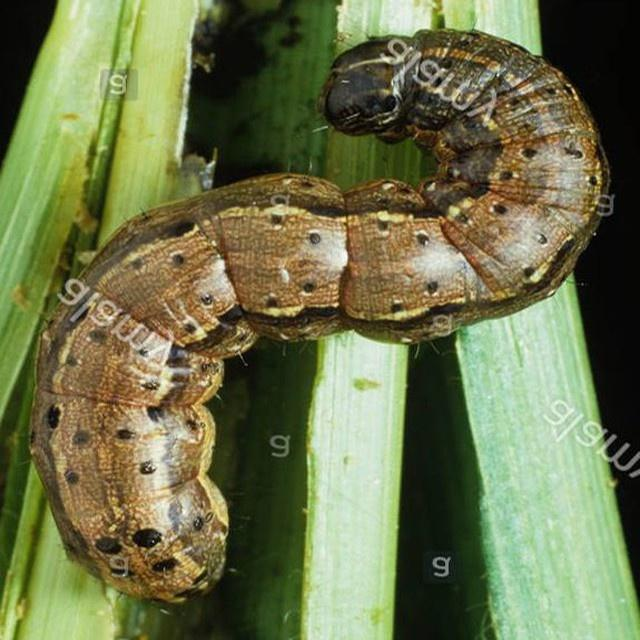Plaga: (33, 35, 603, 605)
